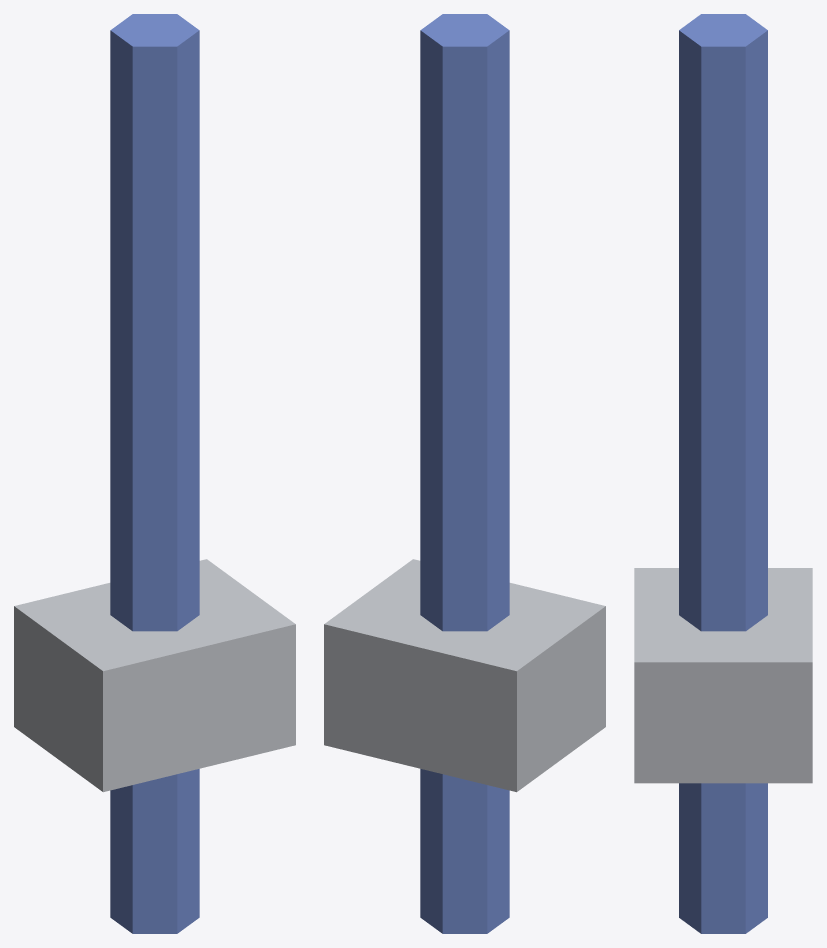
File: vacuum.glb
3 views of the same model, side by side, from view 1: azimuth 30°, elevation 25°; view 2: azimuth 150°, elevation 25°; view 3: azimuth 270°, elevation 25° (orthographic).
Parts seen in each view (by area): view 1: cyl, box; view 2: cyl, box; view 3: cyl, box.
Boxes of the visible parts, <box> form: cyl: <box>110,14,199,933</box>; box: <box>14,559,295,792</box>; cyl: <box>420,14,509,933</box>; box: <box>324,559,605,792</box>; cyl: <box>679,14,767,933</box>; box: <box>634,568,812,783</box>.
Bounding box in the file's own units: 0.1 × 0.44 × 0.08.
